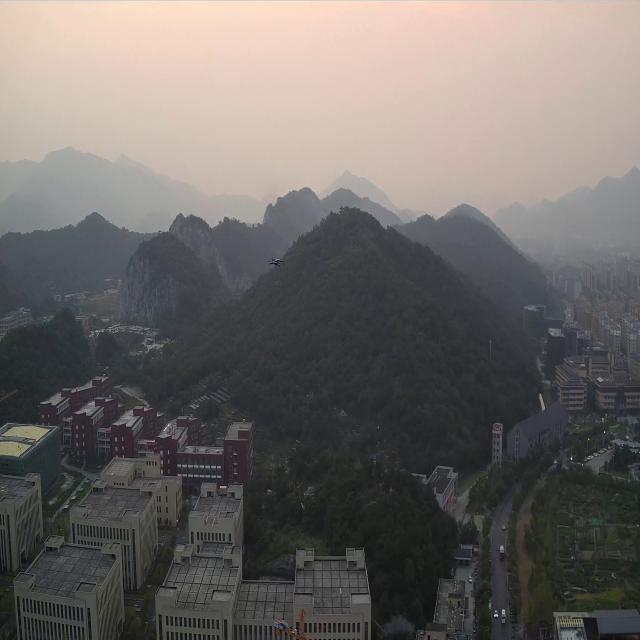UAV: (267, 255, 286, 267)
